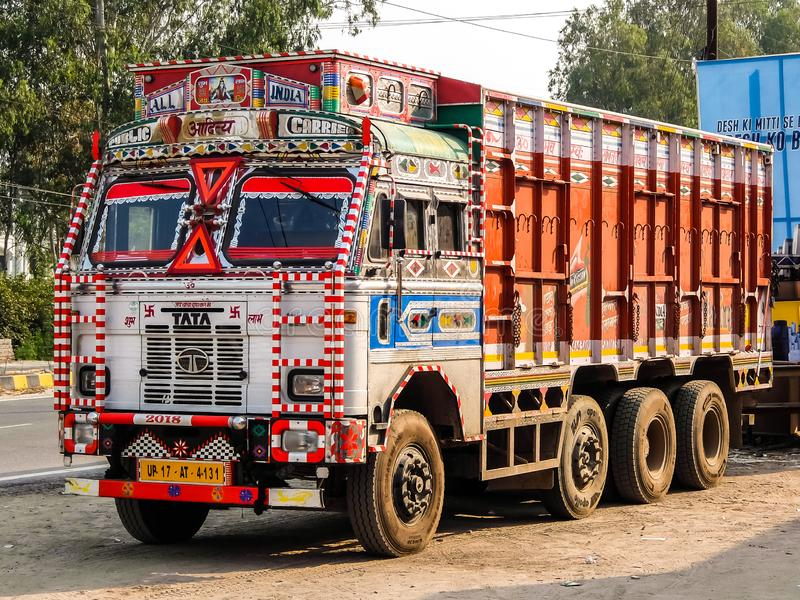lorry: (52, 51, 782, 559)
numberplate: (137, 455, 229, 485)
